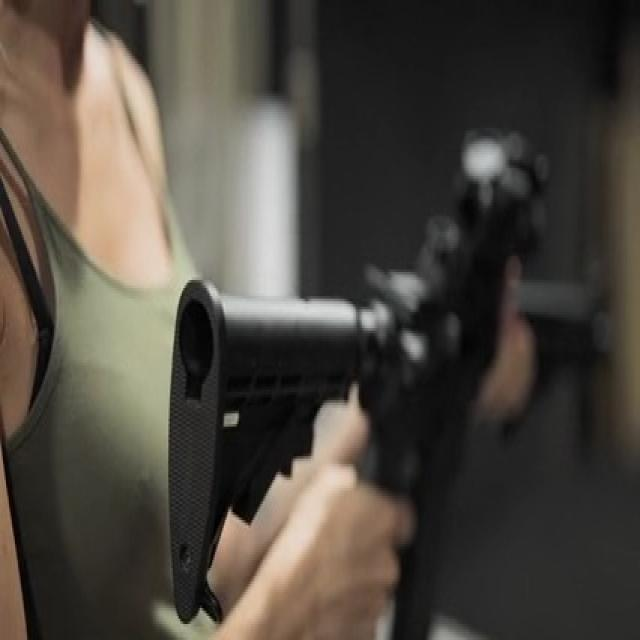Gun_Holder: (126, 41, 629, 622)
